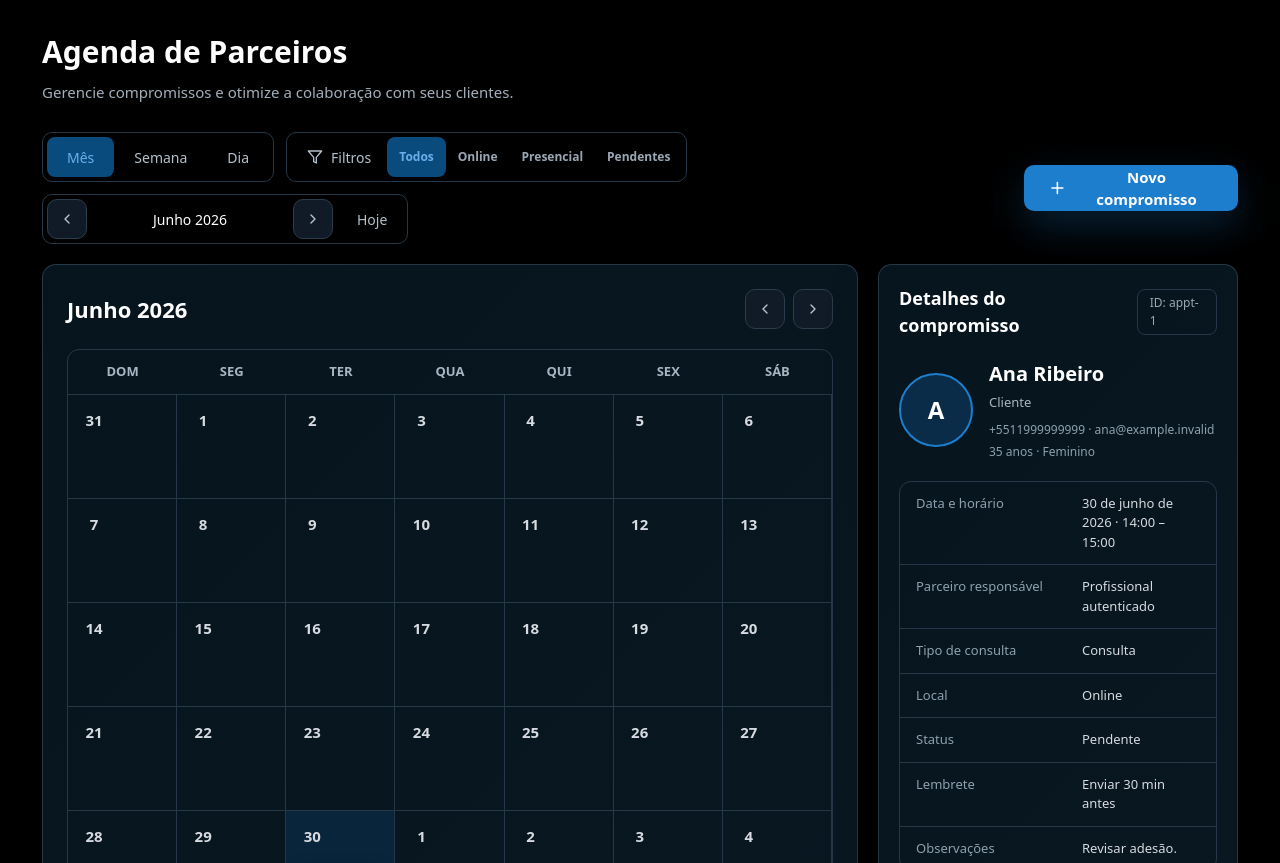
Test case: PartnerAgendaView › renderiza agenda com linguagem de Clientes e alterna views
Check: the heading "Agenda de Parceiros" is shown, box [42,31,347,72]
Click the button "Semana". click: (161,157)
box: [114,137,207,177]
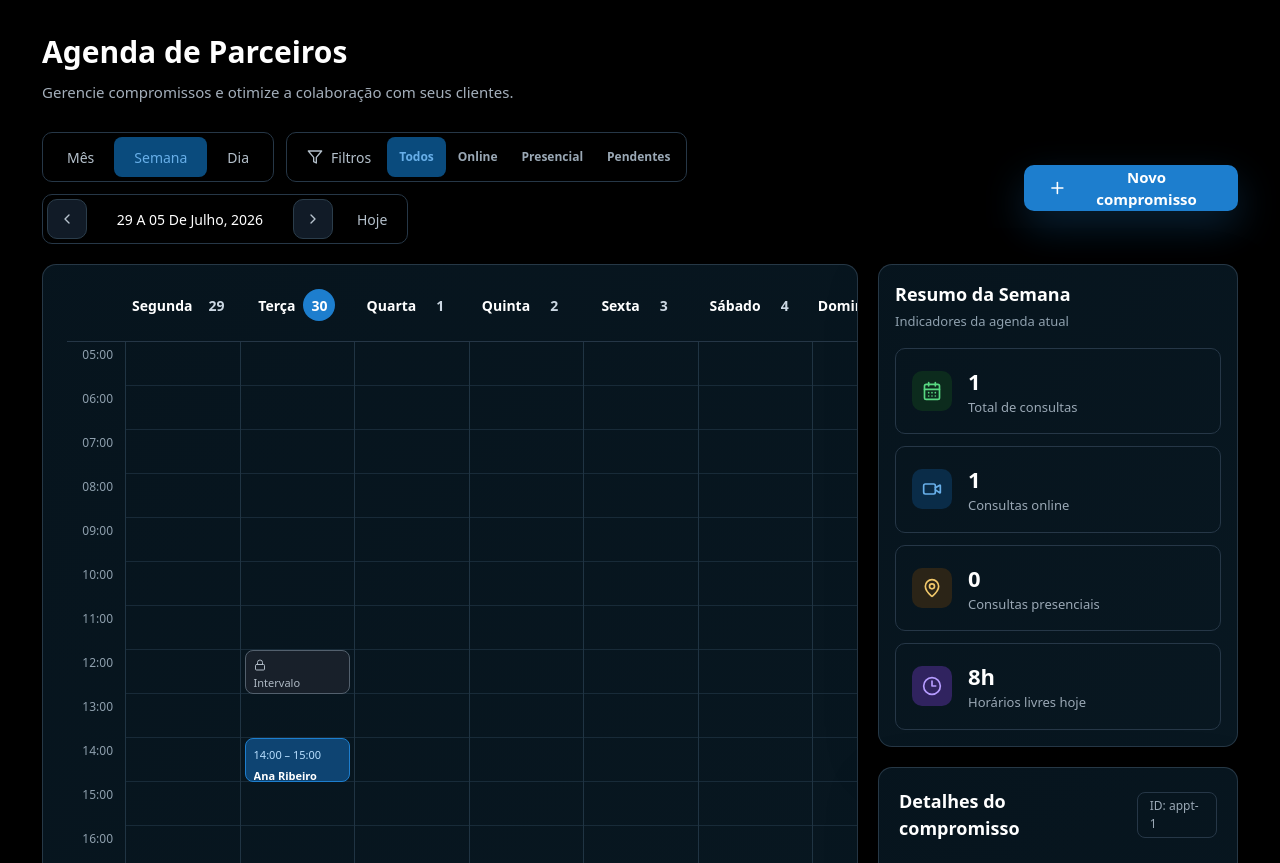
Check: the heading "Resumo da Semana" is shown, box [895,282,1070,306]
Click the button "Dia". click: (238,157)
box: [207,137,269,177]
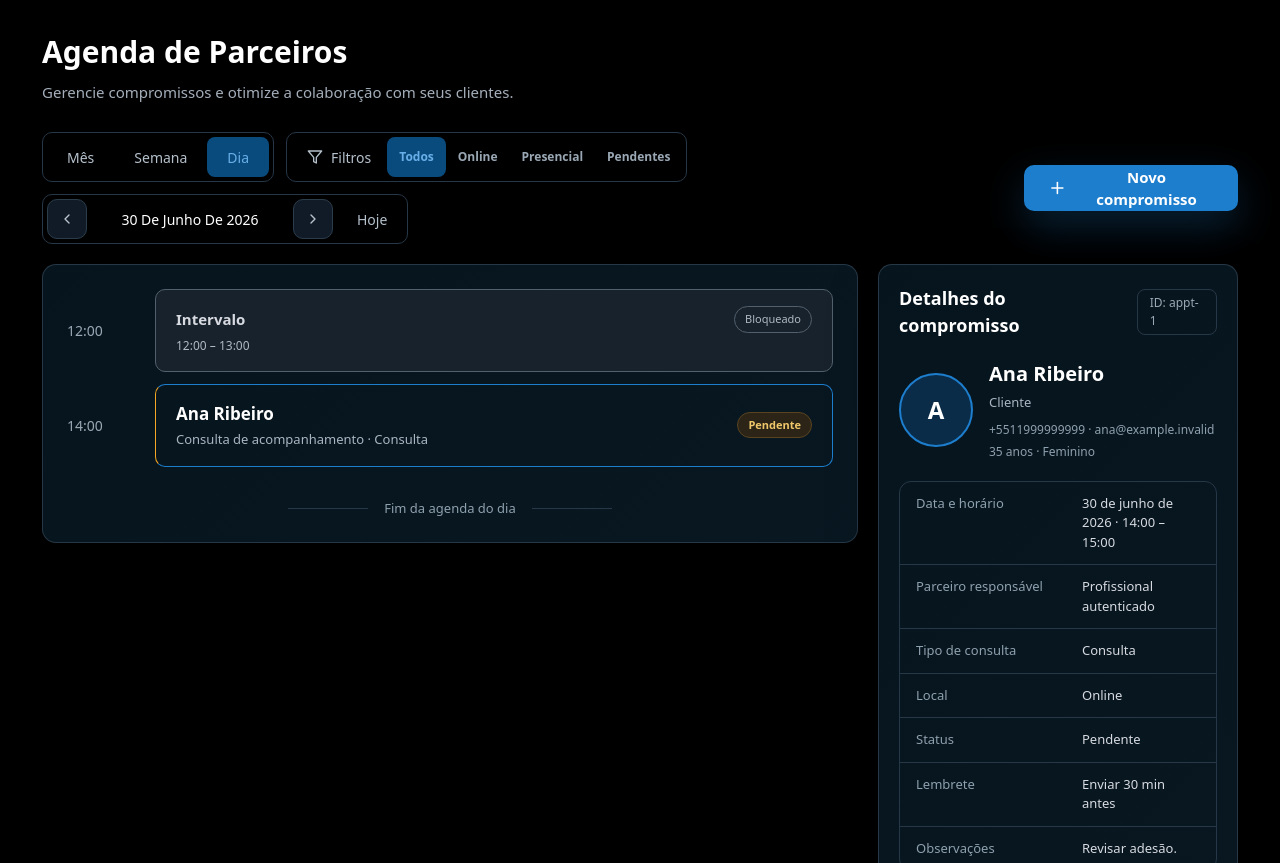
Check: the text "Fim da agenda do dia" is shown, box [384,498,516,516]
